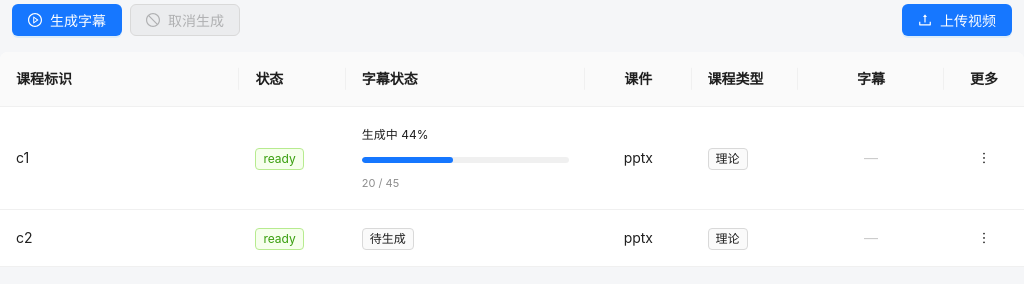
专栏视频轮询（PRD AC-15 数据源唯一 / AC-4 进度持续变化） › 轮询只更新列表，不退出批量模式、不清选择，也不闪整表 loading
Expected: the text "c2" is shown, x1=0 y1=210 x2=239 y2=267
Click the button "生成字幕" at (67, 20), box x1=12 y1=4 x2=122 y2=36
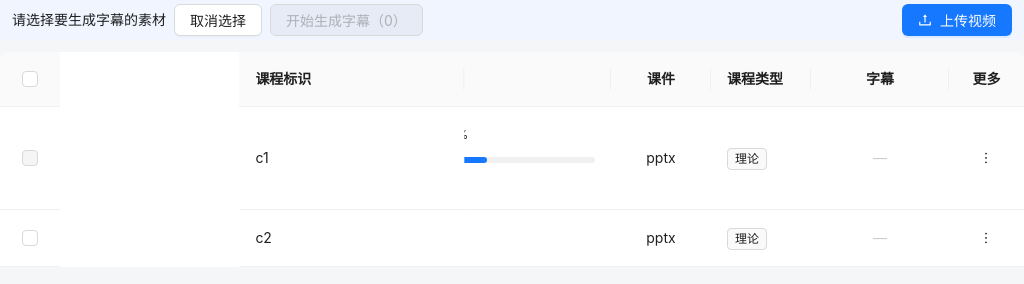
Now the checkbox in the row of "c2" is shown
Click the checkbox in the row of "c2" at (30, 238), box x1=22 y1=227 x2=38 y2=249
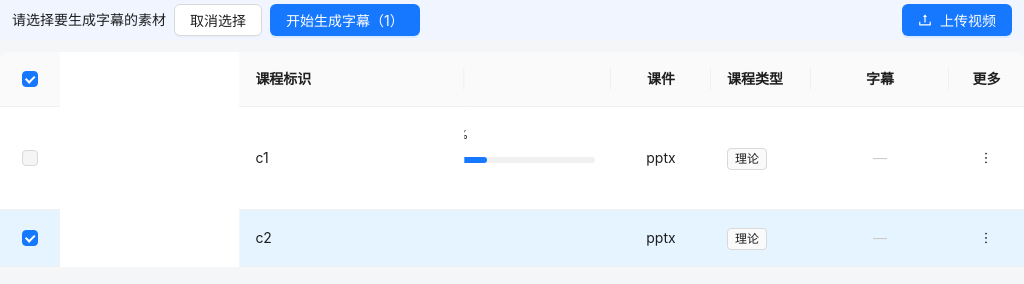
Expected: the text "生成中 44%" is shown, x1=402 y1=127 x2=468 y2=142
Now the checkbox in the row of "c2" is checked, box x1=22 y1=227 x2=38 y2=249
Now the button "开始生成字幕（1）" is shown, box x1=270 y1=4 x2=420 y2=36
